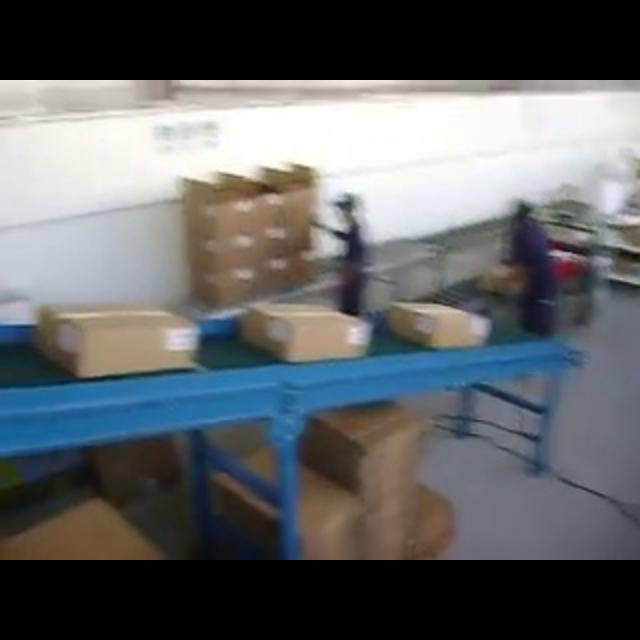Box: (176, 159, 328, 317), (32, 300, 204, 382), (240, 300, 376, 366), (386, 300, 496, 352)
